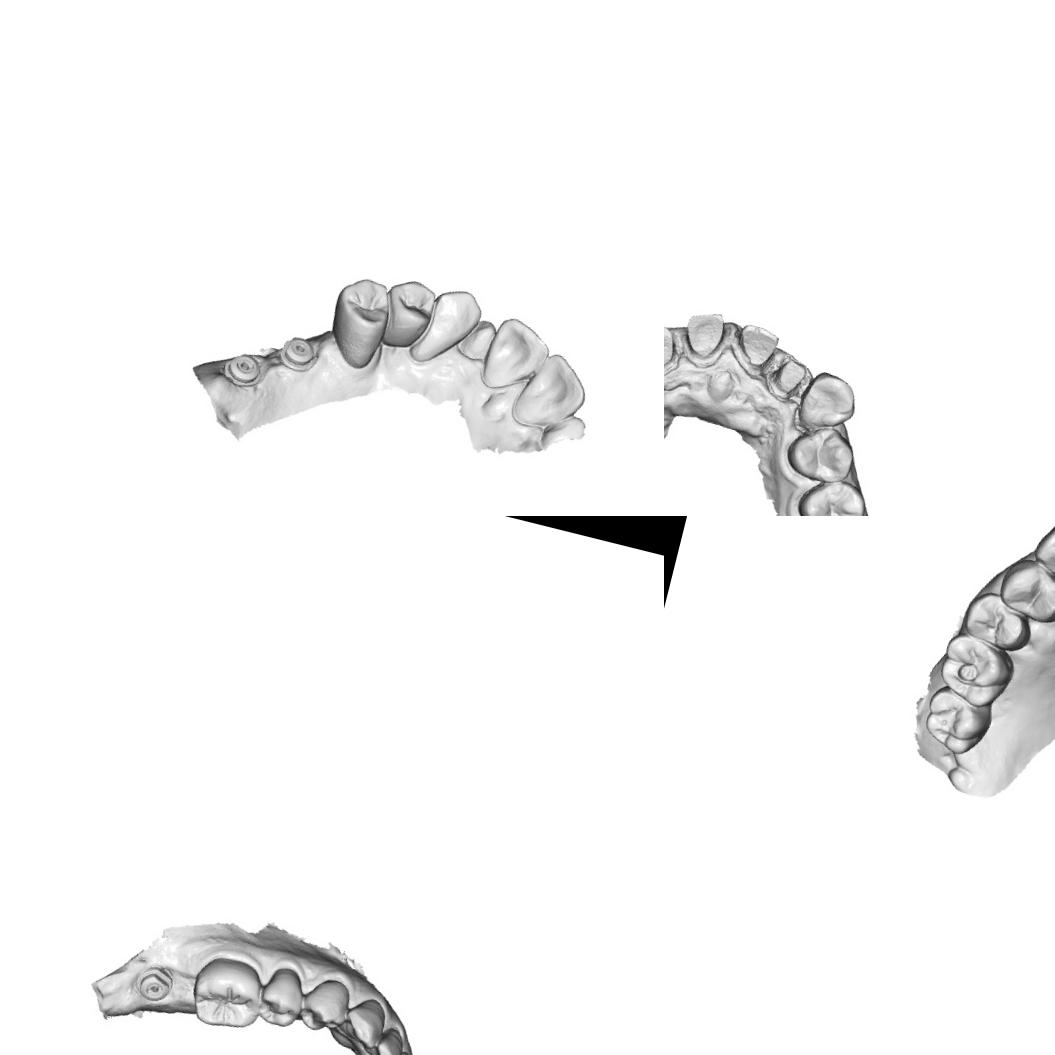canine: (406, 279, 487, 375), (792, 366, 862, 440), (336, 991, 390, 1052), (1028, 516, 1055, 585)
crown: (676, 303, 730, 366), (730, 317, 783, 375), (763, 352, 810, 404), (664, 321, 680, 375)
implant: (276, 332, 320, 372)
implant_minus: (129, 958, 177, 1006), (219, 346, 266, 392)
incisor: (506, 344, 595, 439), (476, 310, 556, 402), (451, 308, 501, 367), (368, 1022, 409, 1055)
molar: (930, 626, 1022, 715), (182, 948, 272, 1038), (914, 681, 1000, 762)
premolar: (320, 269, 398, 374), (956, 584, 1040, 656), (372, 272, 442, 356), (780, 416, 860, 488), (990, 552, 1055, 629), (254, 962, 311, 1032), (296, 972, 355, 1038), (791, 470, 870, 516)
